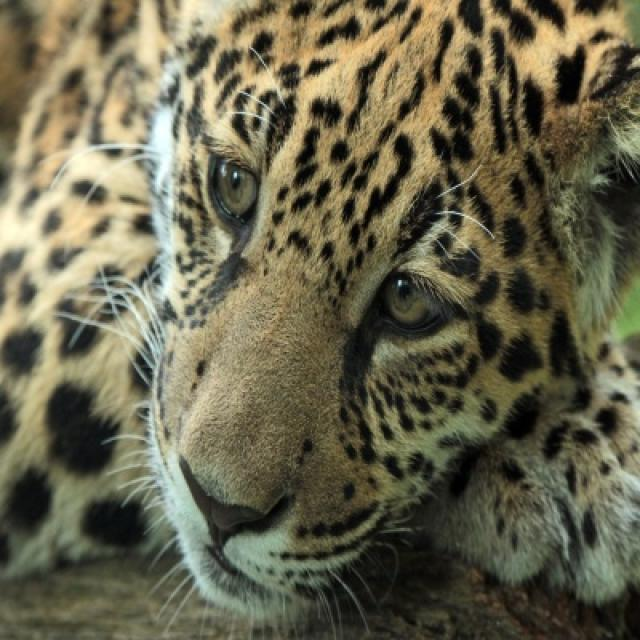Jaguar: (0, 0, 638, 635)
